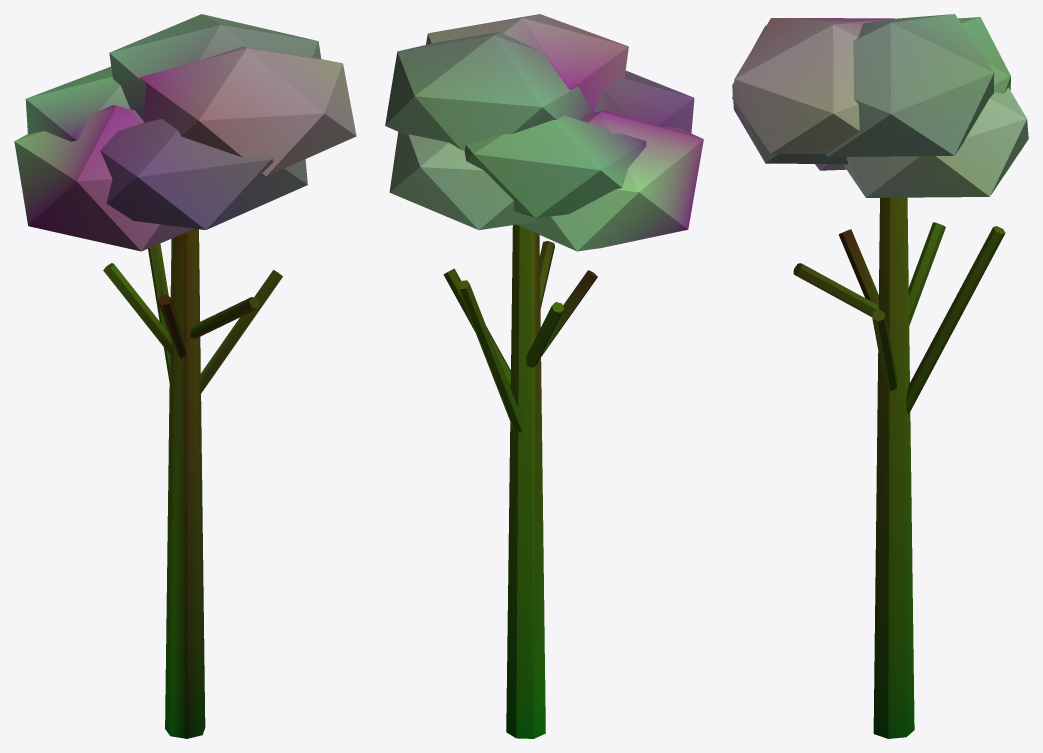
The model's file is broadleaf_05.glb.
3 renders of one model, left to right at view 1: azimuth 30°, elevation 25°; view 2: azimuth 150°, elevation 25°; view 3: azimuth 270°, elevation 25°, orthographic. The views are drawn at different scales.
Visible parts, largest first — view 1: broadleaf_05; view 2: broadleaf_05; view 3: broadleaf_05.
Part boxes in pixels (x1,y1,x2,y2): broadleaf_05: (14,14,356,738); broadleaf_05: (385,14,703,738); broadleaf_05: (732,14,1028,738).
Size of the model in its own units: 2.53 by 5.77 by 2.14.
